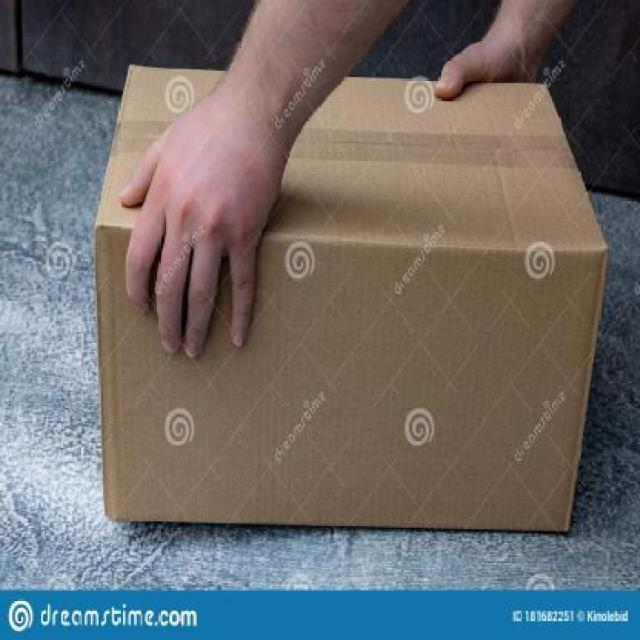box: (94, 56, 605, 538)
